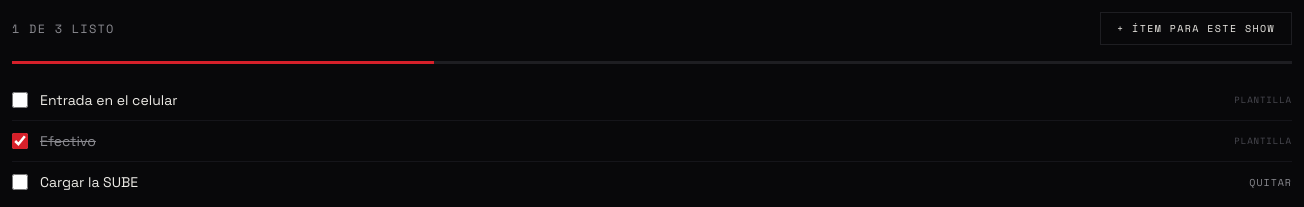
Test: PreShowChecklist › actualiza el progreso apenas se tilda, sin esperar el round-trip
The image size is (1304, 207).
What coordinates should you click on to do the following:
click the checkbox labelled "Entrada en el celular"
I would click on:
 (20, 100)
Its box is [12,92,28,108].
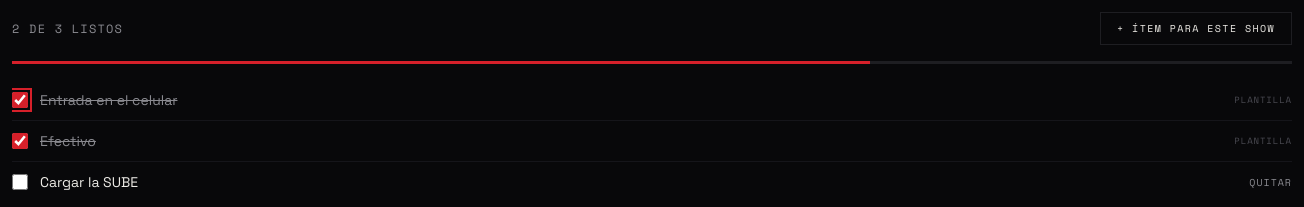
Now the text "2 de 3 listos" is shown, box [12,20,123,36]
